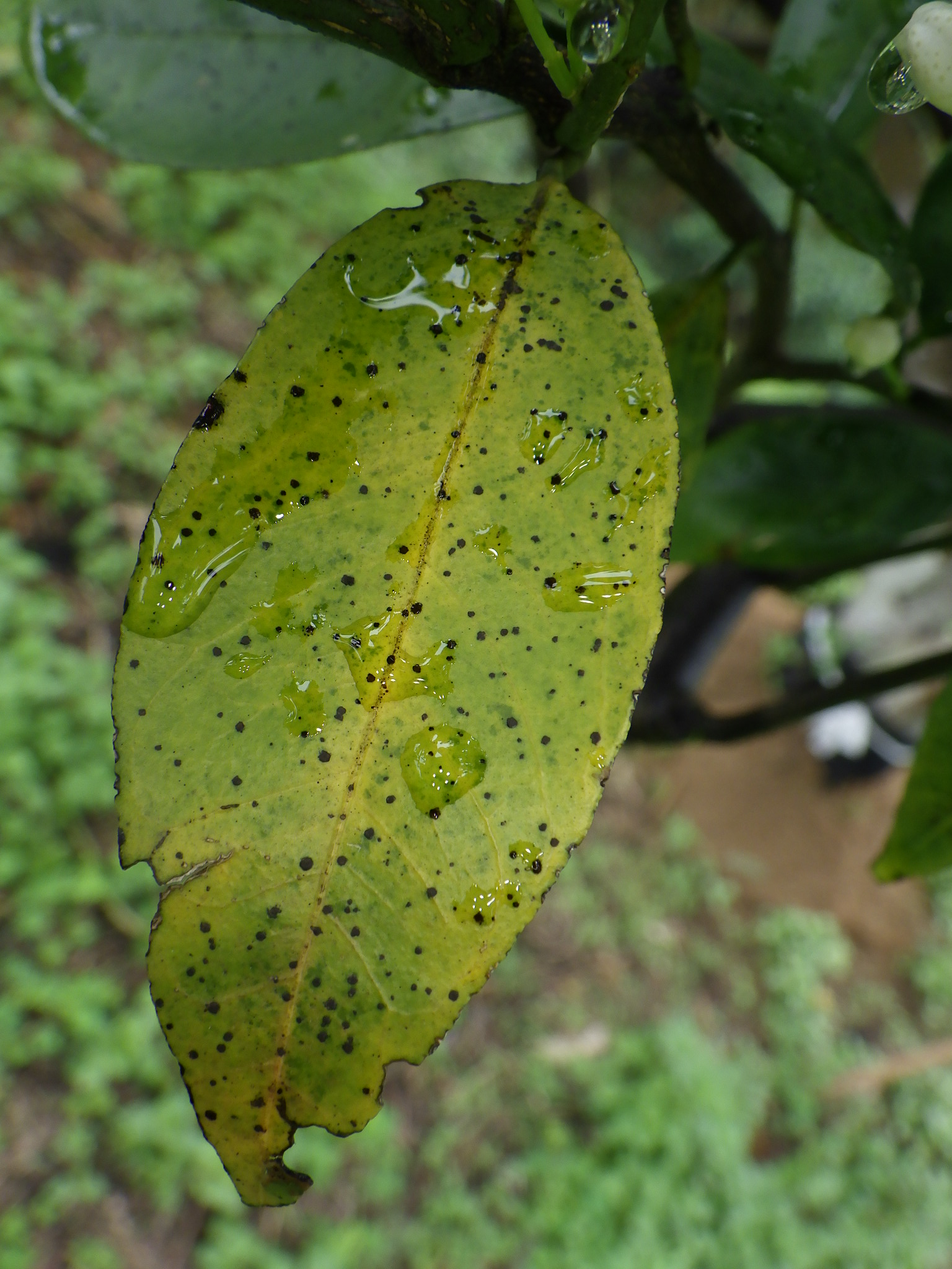Oily_Spot: (114, 180, 677, 1204)
